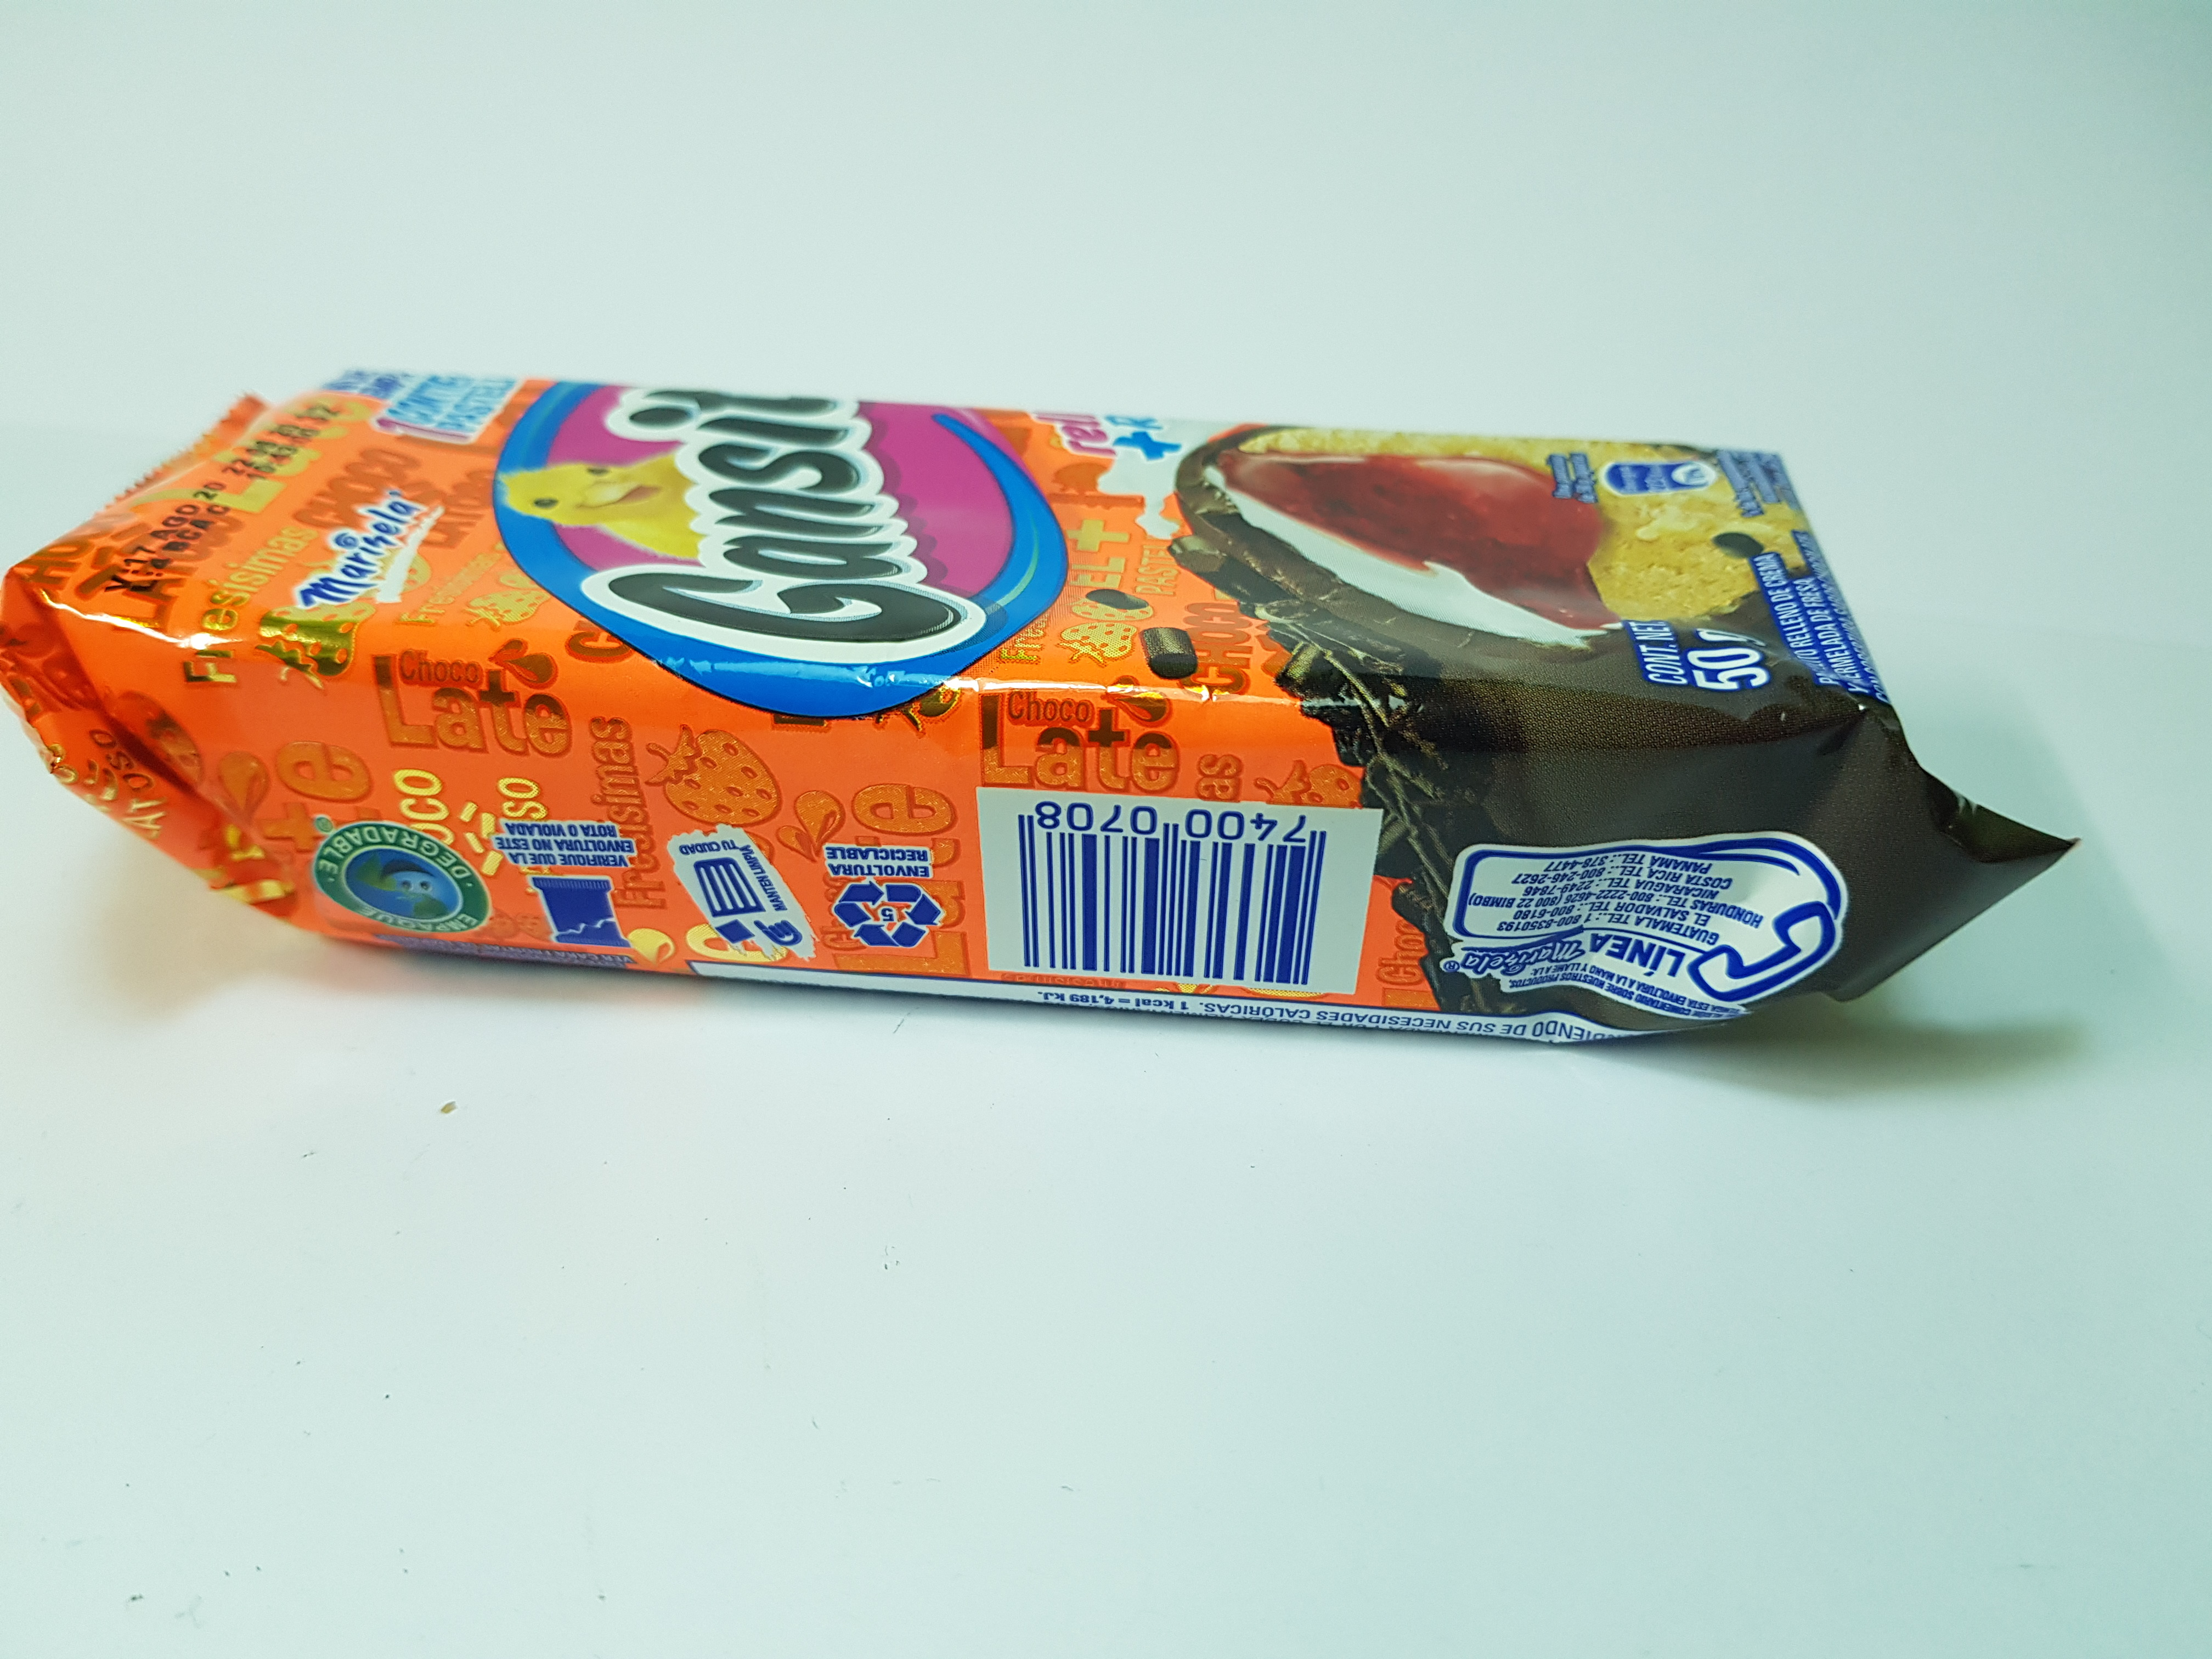gansito: (7, 343, 2074, 1072)
